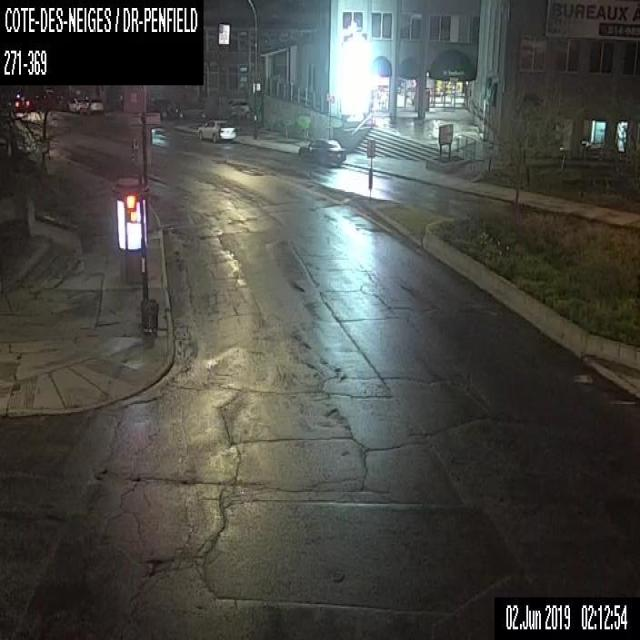vehicle: (298, 136, 346, 165), (196, 117, 237, 143), (226, 97, 250, 118), (86, 94, 103, 114), (67, 95, 86, 112)
